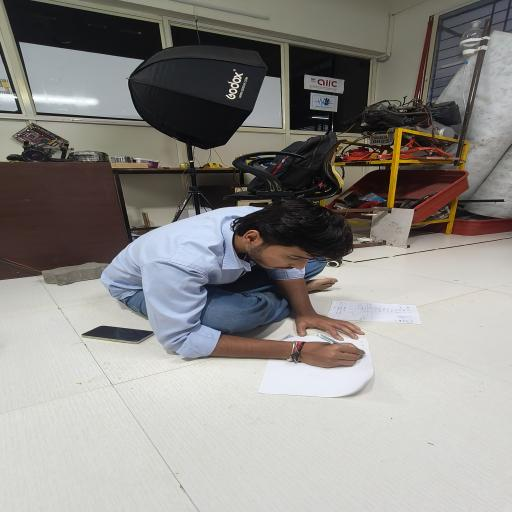survivor: (99, 199, 366, 369)
